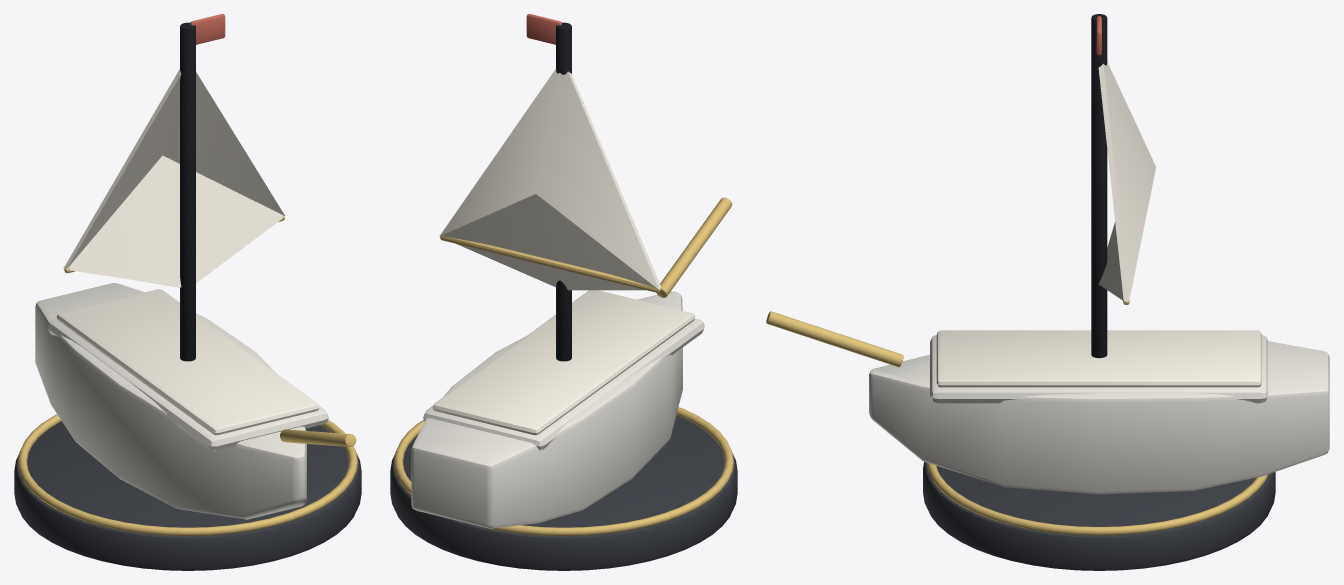
Rendered from ship.glb.
3 renders of one model, left to right at view 1: azimuth 30°, elevation 25°; view 2: azimuth 150°, elevation 25°; view 3: azimuth 270°, elevation 25°, orthographic.
Parts seen in each view (by area): view 1: TOKEN_DETAILS, TOKEN_BODY, TOKEN_BASE; view 2: TOKEN_DETAILS, TOKEN_BODY, TOKEN_BASE; view 3: TOKEN_BODY, TOKEN_DETAILS, TOKEN_BASE.
Part boxes in pixels (x1,y1,x2,y2): TOKEN_DETAILS: (18,14,357,536); TOKEN_BODY: (35,283,328,519); TOKEN_BASE: (14,421,361,570); TOKEN_DETAILS: (394,14,733,536); TOKEN_BODY: (411,291,704,528); TOKEN_BASE: (390,415,737,570); TOKEN_BODY: (869,335,1329,494); TOKEN_DETAILS: (766,14,1268,535); TOKEN_BASE: (923,462,1275,570).
Bounding box in the file's own units: 0.26 × 0.395 × 0.4157.
